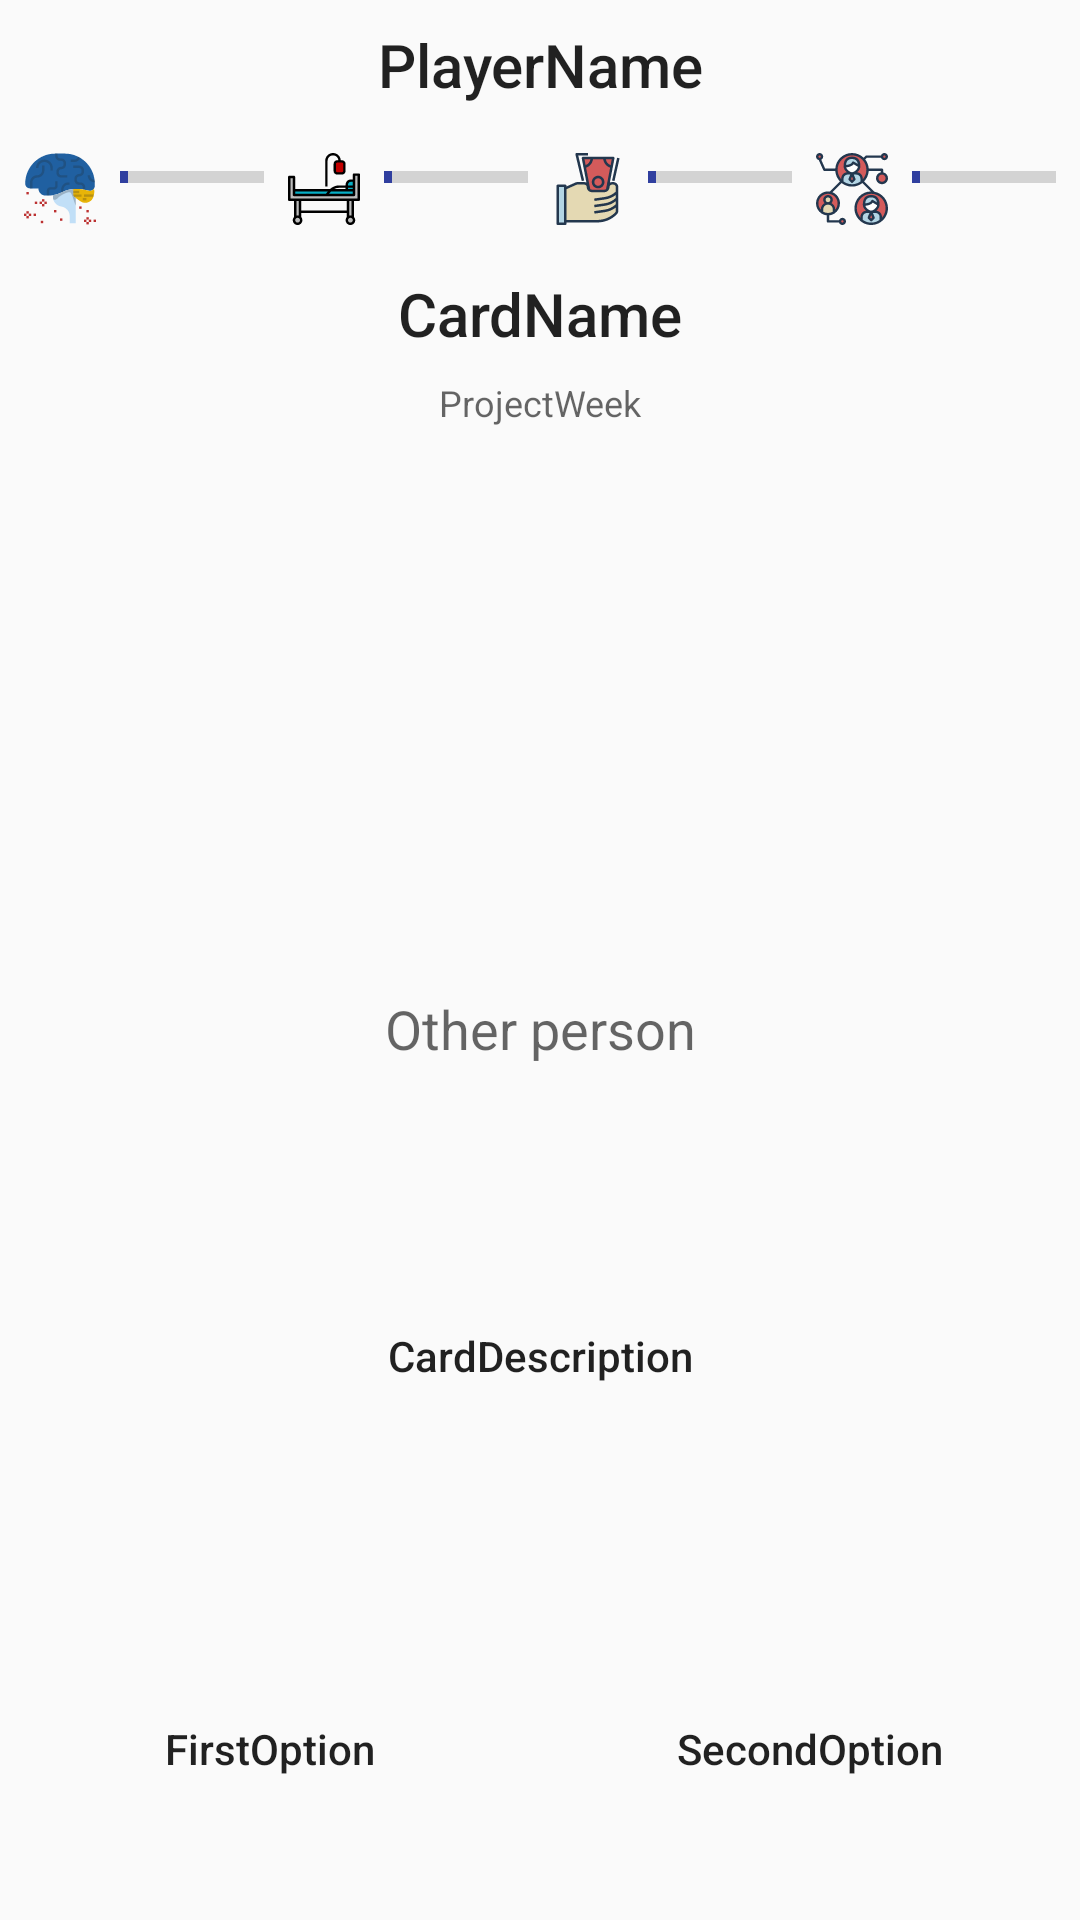

Where to tap for icons on this 1080w x 1920h app screen, as (x,y):
anxiety: (60,189)
money: (588,189)
social life: (852,189)
